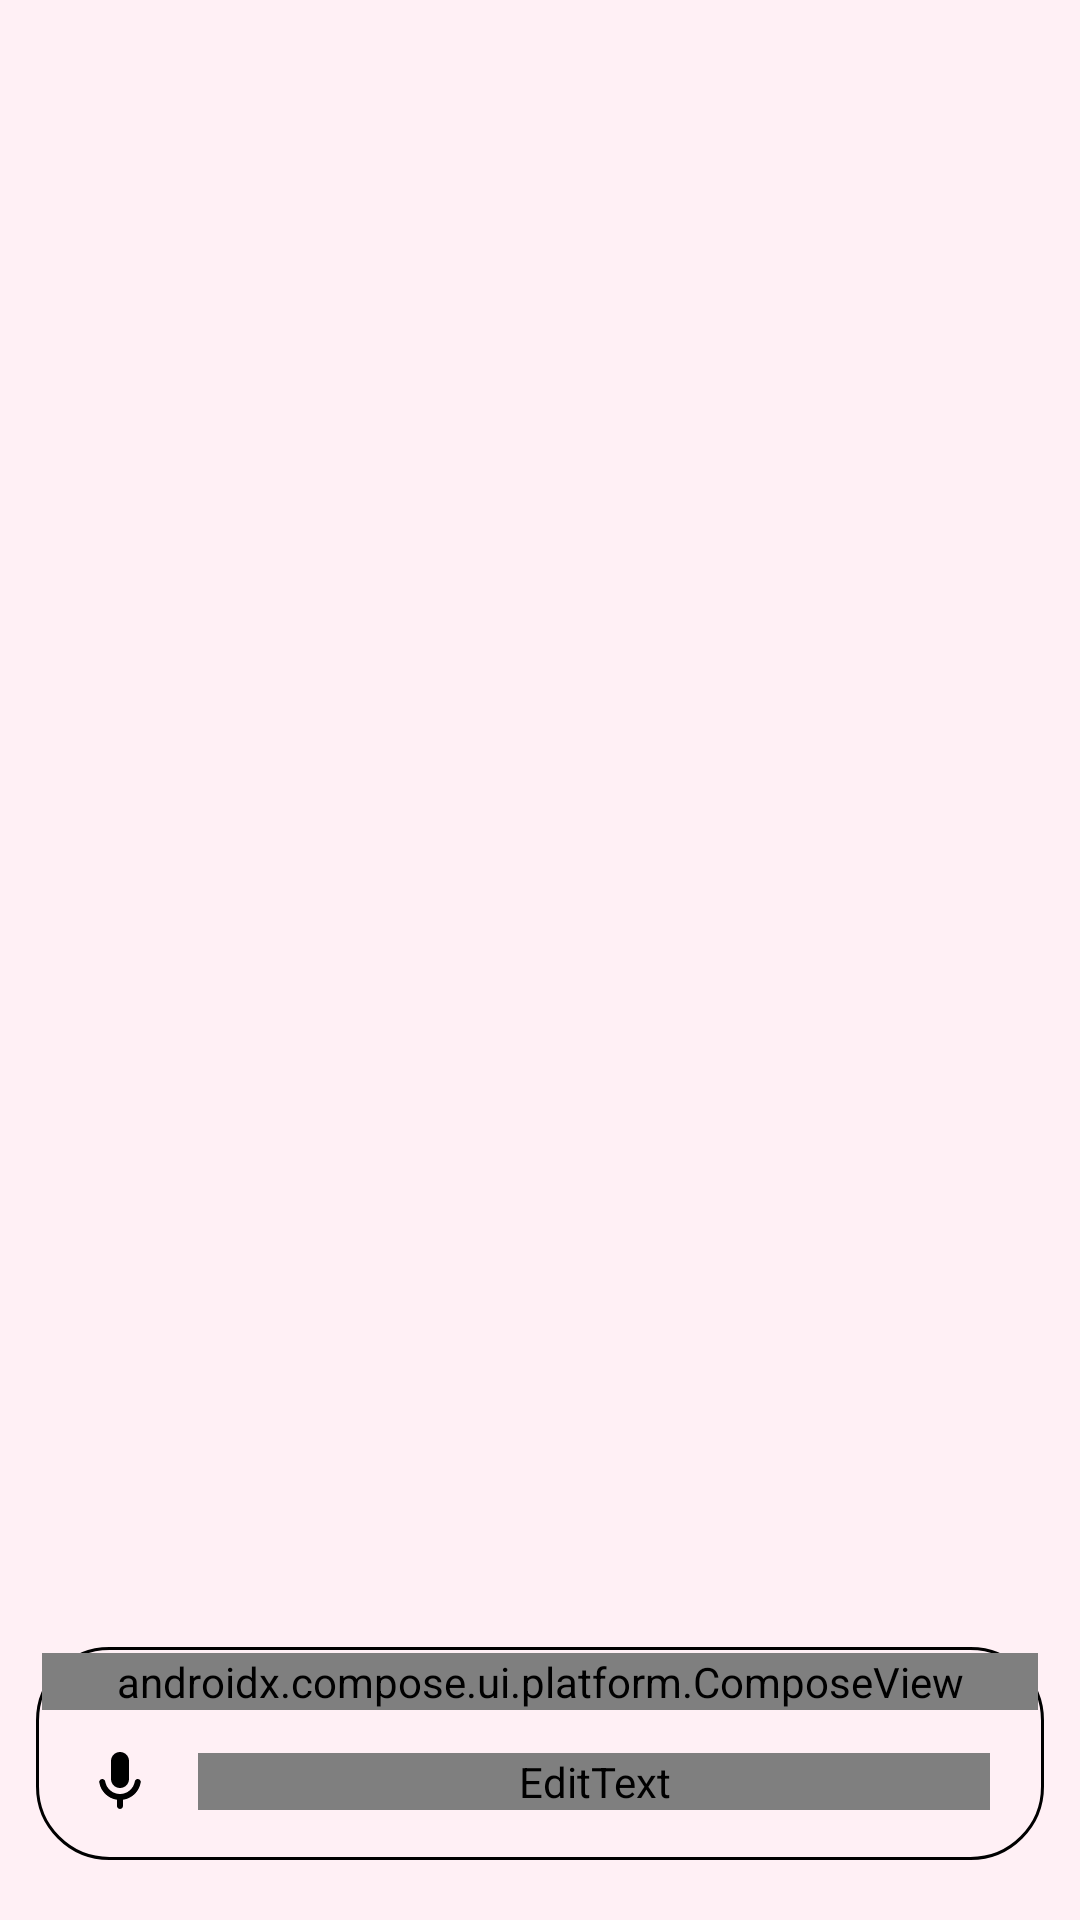

Icons on this 1080px×1920px Android screen, each with the point to tap as (x,y):
Voice input: (120,1780)
